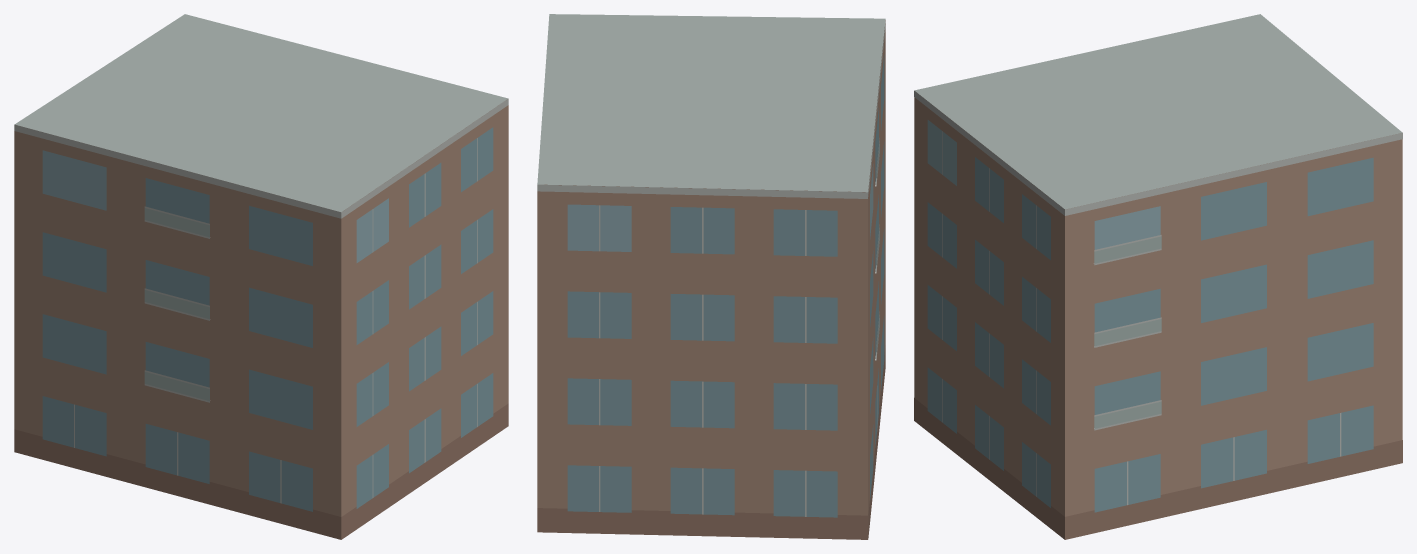
File: survey-upis-32726649.glb
The picture shows the model from 3 angles, left to right: view 1: azimuth 30°, elevation 25°; view 2: azimuth 150°, elevation 25°; view 3: azimuth 270°, elevation 25°; orthographic projection. The views are drawn at different scales.
Visible parts, largest first — view 1: survey-upis-32726649.tmp; view 2: survey-upis-32726649.tmp; view 3: survey-upis-32726649.tmp.
Boxes of the visible parts, <box> form: survey-upis-32726649.tmp: <box>14,14,508,539</box>; survey-upis-32726649.tmp: <box>537,14,885,539</box>; survey-upis-32726649.tmp: <box>914,14,1402,539</box>.
Bounding box in the file's own units: 15.68 × 12.35 × 16.56.
